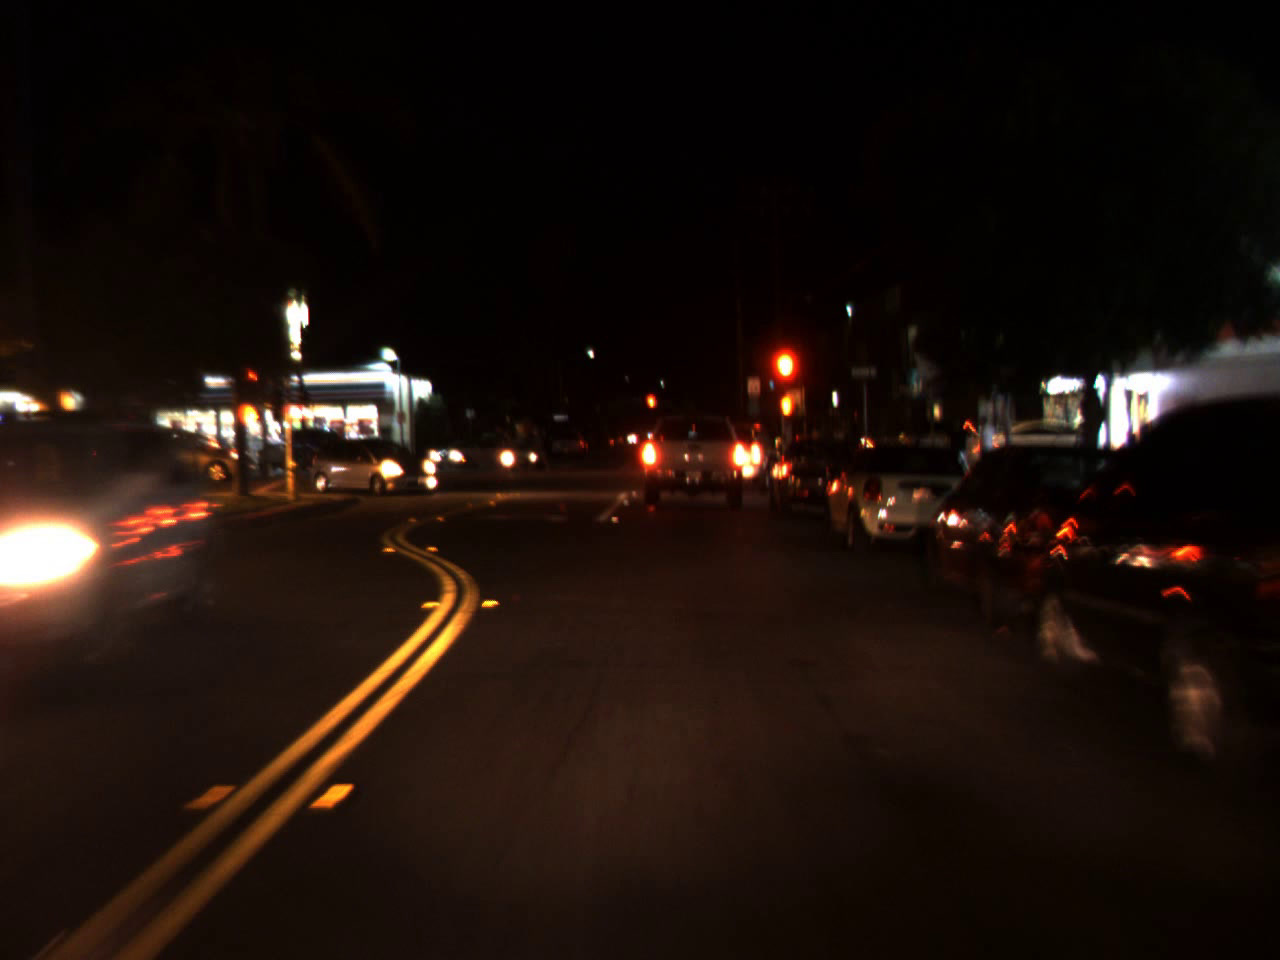stop: (770, 346, 798, 408), (644, 391, 657, 426), (247, 370, 259, 391)
